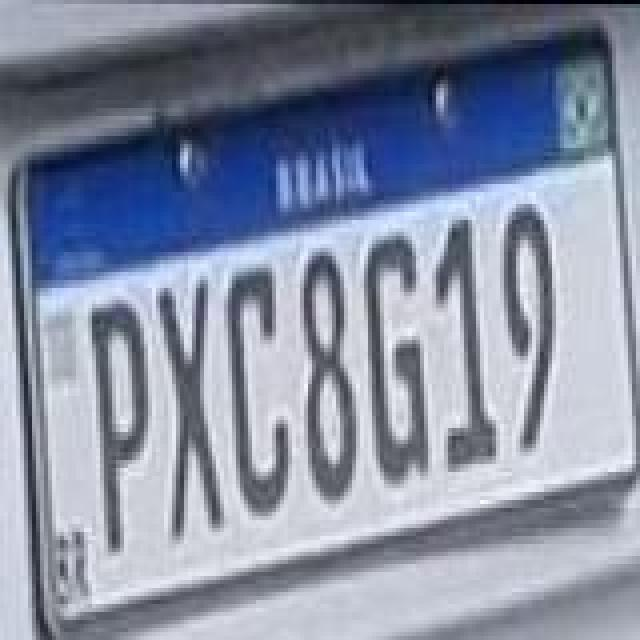1: (430, 218, 498, 474)
8: (298, 248, 358, 508)
9: (500, 202, 556, 454)
C: (222, 264, 290, 516)
G: (360, 228, 432, 488)
P: (88, 298, 152, 558)
X: (156, 276, 228, 544)
